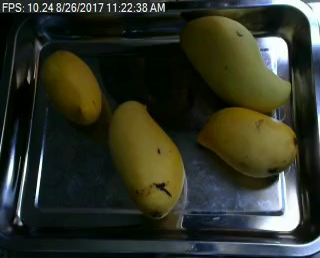Mango: (181, 15, 292, 112), (107, 99, 184, 217), (195, 106, 295, 178), (41, 50, 101, 124)
